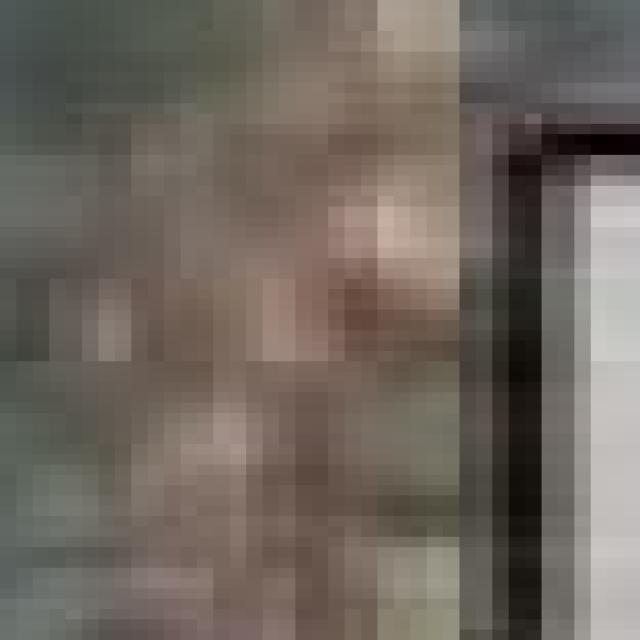fire: (16, 0, 640, 640)
